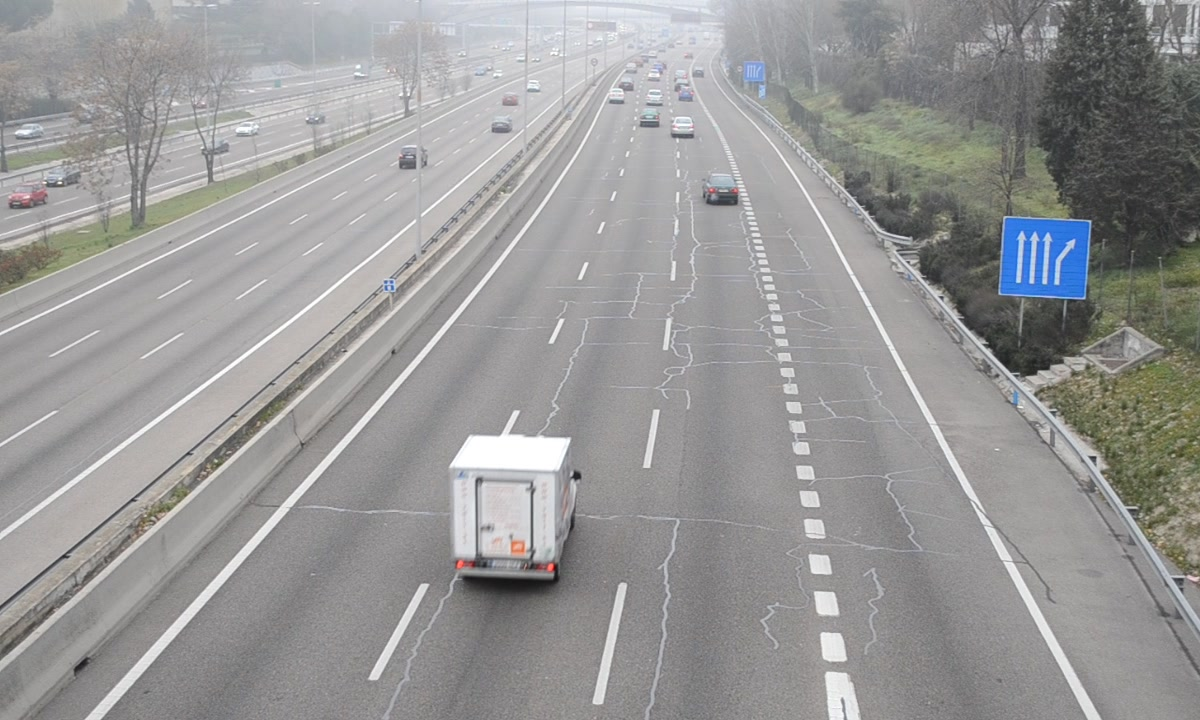car: (704, 171, 739, 205)
small-truck: (450, 436, 579, 579)
